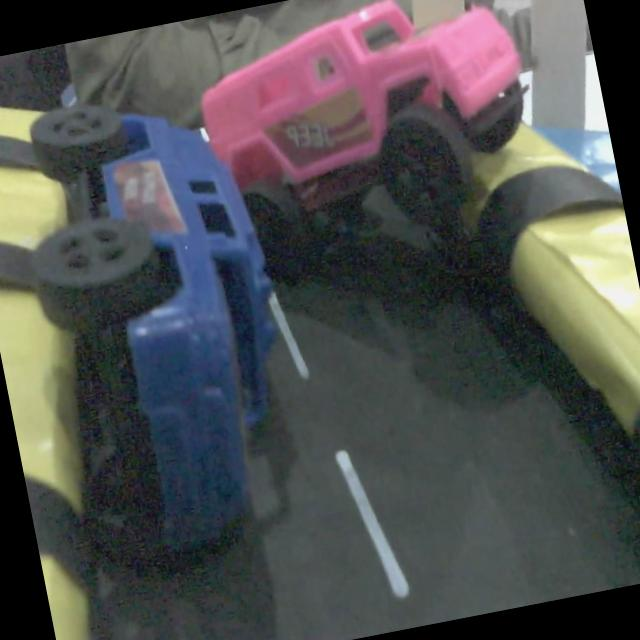Accident: (28, 0, 531, 579)
